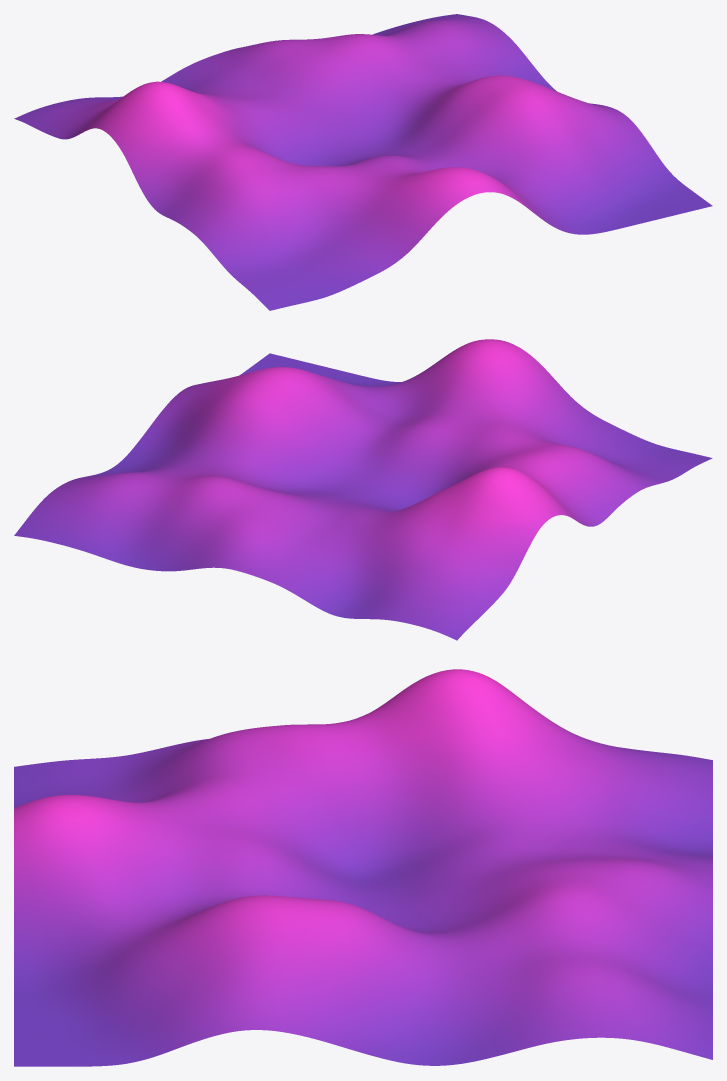
File: hills3.fbx
3 views of the same model, one above another, from view 1: azimuth 30°, elevation 25°; view 2: azimuth 150°, elevation 25°; view 3: azimuth 270°, elevation 25° (orthographic). The views are drawn at different scales.
Parts seen in each view (by area): view 1: hill; view 2: hill; view 3: hill.
Part boxes in pixels (x1=…): hill: x1=14, y1=14, x2=712, y2=310; hill: x1=14, y1=339, x2=712, y2=640; hill: x1=14, y1=669, x2=712, y2=1066.
Size of the model in its own units: 500 by 104 by 500.
